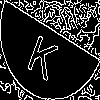K: (25, 25, 63, 82)
